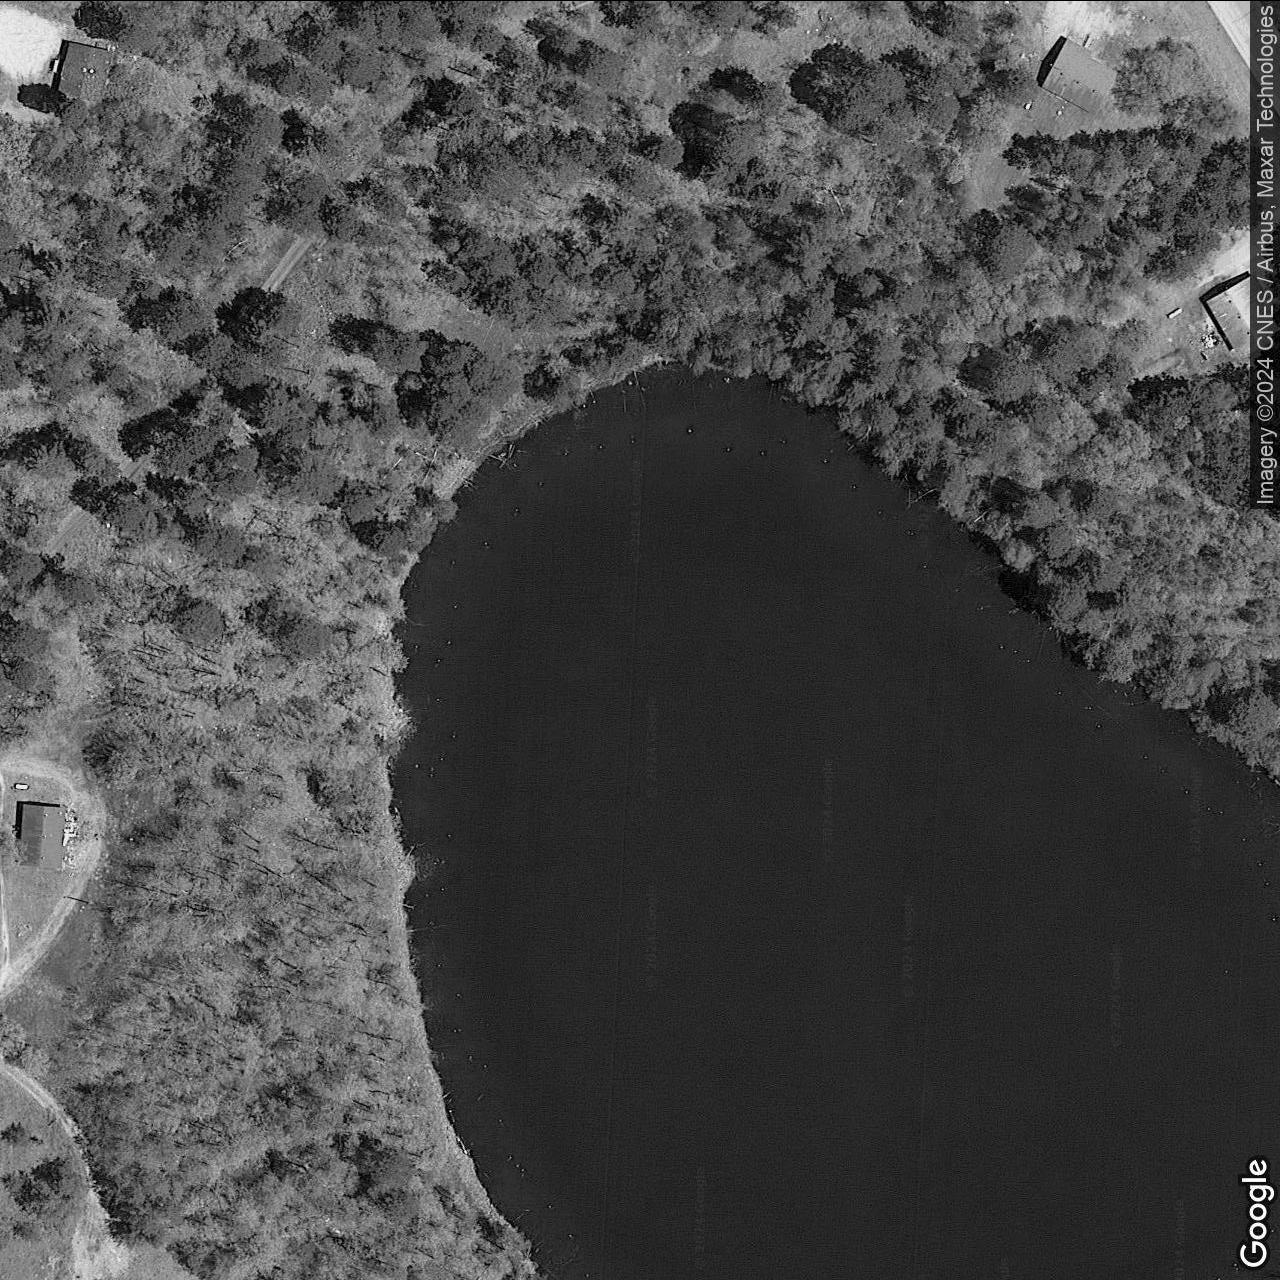House: (1039, 36, 1118, 115), (56, 40, 118, 104), (1204, 273, 1250, 354), (19, 801, 66, 870)
Propane: (1165, 304, 1185, 320), (13, 782, 30, 789)
